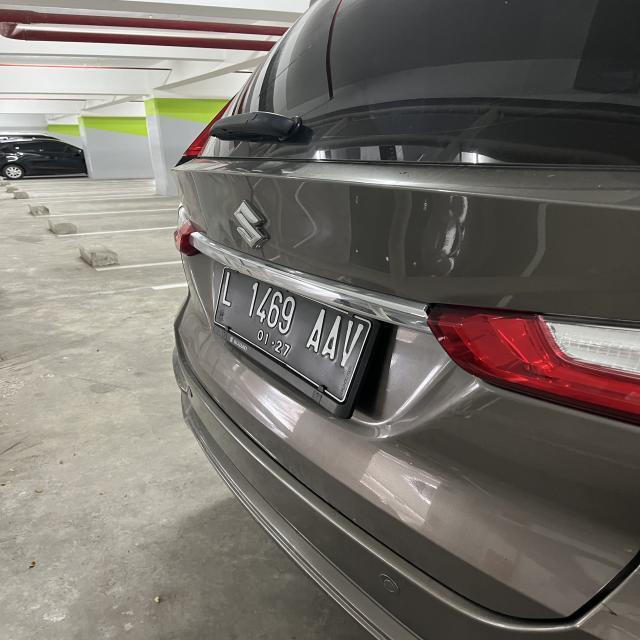1: (248, 280, 256, 319)
4: (256, 283, 272, 323)
6: (267, 288, 281, 328)
9: (282, 297, 296, 338)
A: (308, 307, 325, 352), (326, 314, 340, 360)
L: (224, 270, 234, 309)
V: (342, 318, 361, 368)
